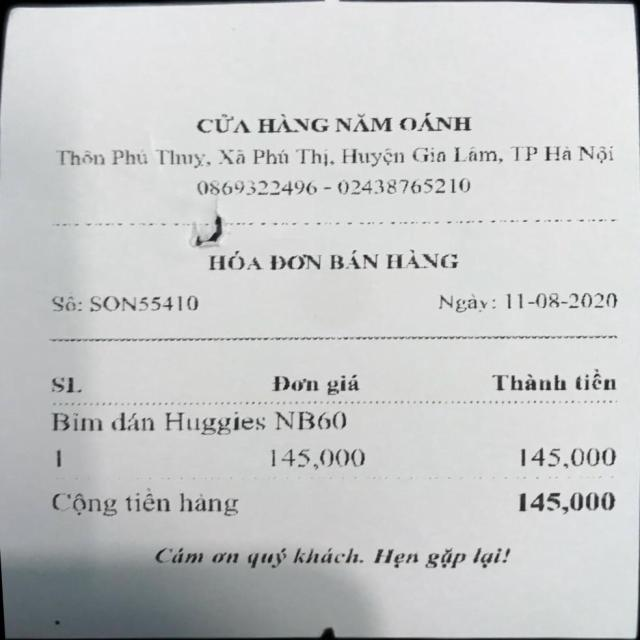Date: (502, 280, 626, 319)
Store_Name: (168, 94, 484, 138)
amount_number: (492, 488, 635, 520)
label_total: (50, 487, 245, 521)
